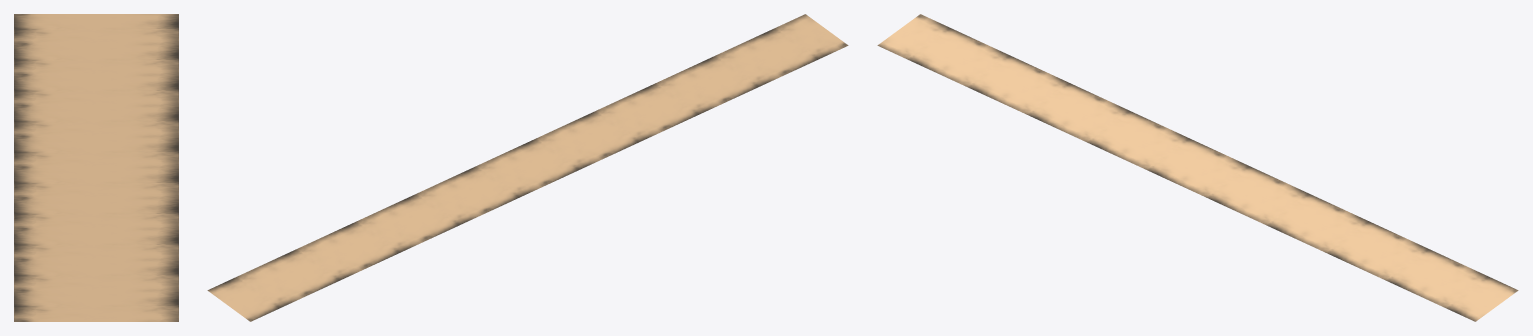
The model's file is CourseSummer_Floor_13.fbx.
3 renders of one model, left to right at view 1: azimuth 90°, elevation 25°; view 2: azimuth 210°, elevation 25°; view 3: azimuth 330°, elevation 25°, orthographic. The views are drawn at different scales.
Parts seen in each view (by area): view 1: polySurface17; view 2: polySurface17; view 3: polySurface17.
Part boxes in pixels (box(x1,y1,x2,y2)): polySurface17: box(14, 14, 178, 321); polySurface17: box(207, 14, 848, 321); polySurface17: box(877, 14, 1518, 321).
Size of the model in its own units: 48 by 10 by 6.
Materials: 1 (1 with a texture image).
